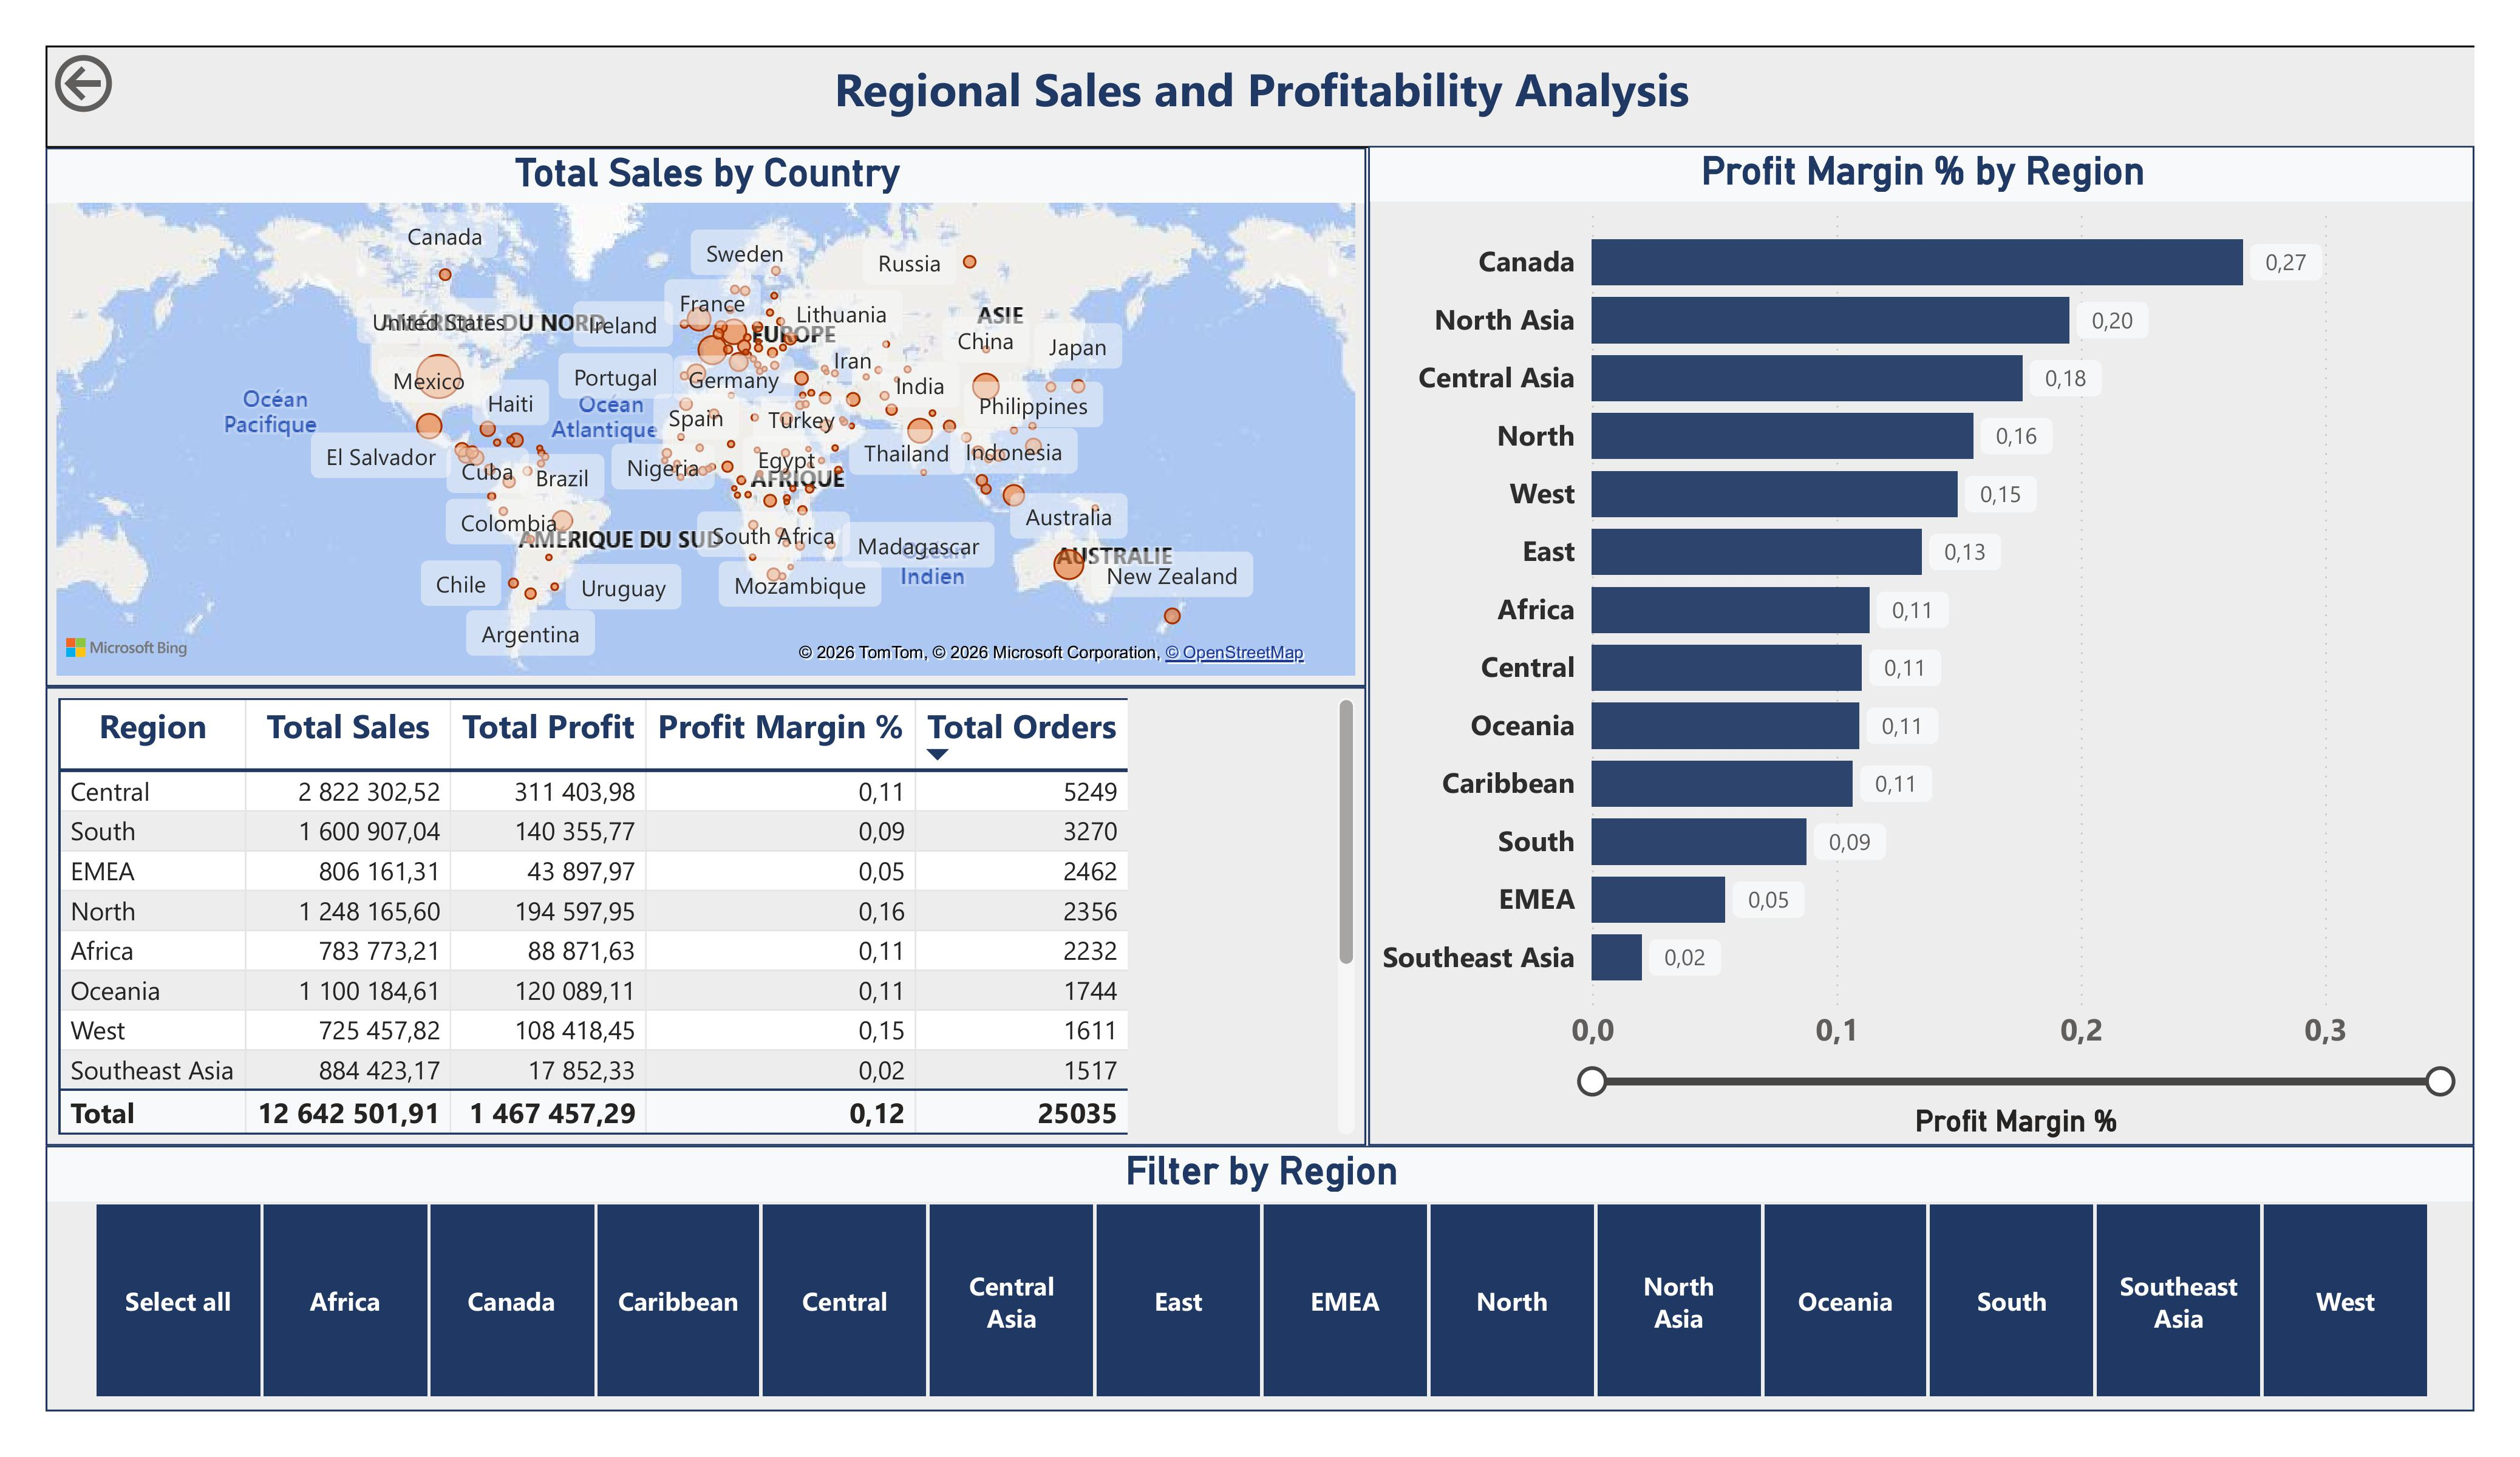

This screenshot's page, from the dashboard's own definition file:
{"tool":"powerbi","page":{"name":"Regional Analysis","canvas":[1280,720],"ordinal":1},"visuals":[{"type":"textbox","box":[0,0,1282,54],"z":0},{"type":"map","fields":{"Category":["Sheet1.Country"],"Size":["Sheet1.Total Sales"]},"box":[0,54,696,284],"z":1000},{"type":"slicer","title":"Filter by Region","fields":{"Values":["Sheet1.Region"]},"box":[0,580,1280,140],"z":2000},{"type":"tableEx","fields":{"Values":["Sheet1.Region","Sheet1.Total Sales","Sheet1.Total Profit","Sheet1.Profit Margin %","Sheet1.Total Orders"]},"box":[0,338,696,242],"z":3000},{"type":"actionButton","box":[0,0,100,40],"z":4000},{"type":"clusteredBarChart","fields":{"Y":["Sheet1.Profit Margin %"],"Category":["Sheet1.Region"]},"box":[696.7,53.3,583.3,526.7],"z":5000}]}

Visuals, with their boxes in screenshot pixels (x1, y1, x2, y2):
textbox: box=[59, 46, 2460, 147]
map - Sheet1.Country x Sheet1.Total Sales: box=[59, 147, 1363, 679]
"Filter by Region" slicer: box=[59, 1132, 2456, 1394]
tableEx - Sheet1.Region x Sheet1.Total Sales: box=[59, 679, 1363, 1132]
actionButton: box=[59, 46, 247, 121]
clusteredBarChart - Sheet1.Profit Margin % x Sheet1.Region: box=[1364, 146, 2456, 1132]
